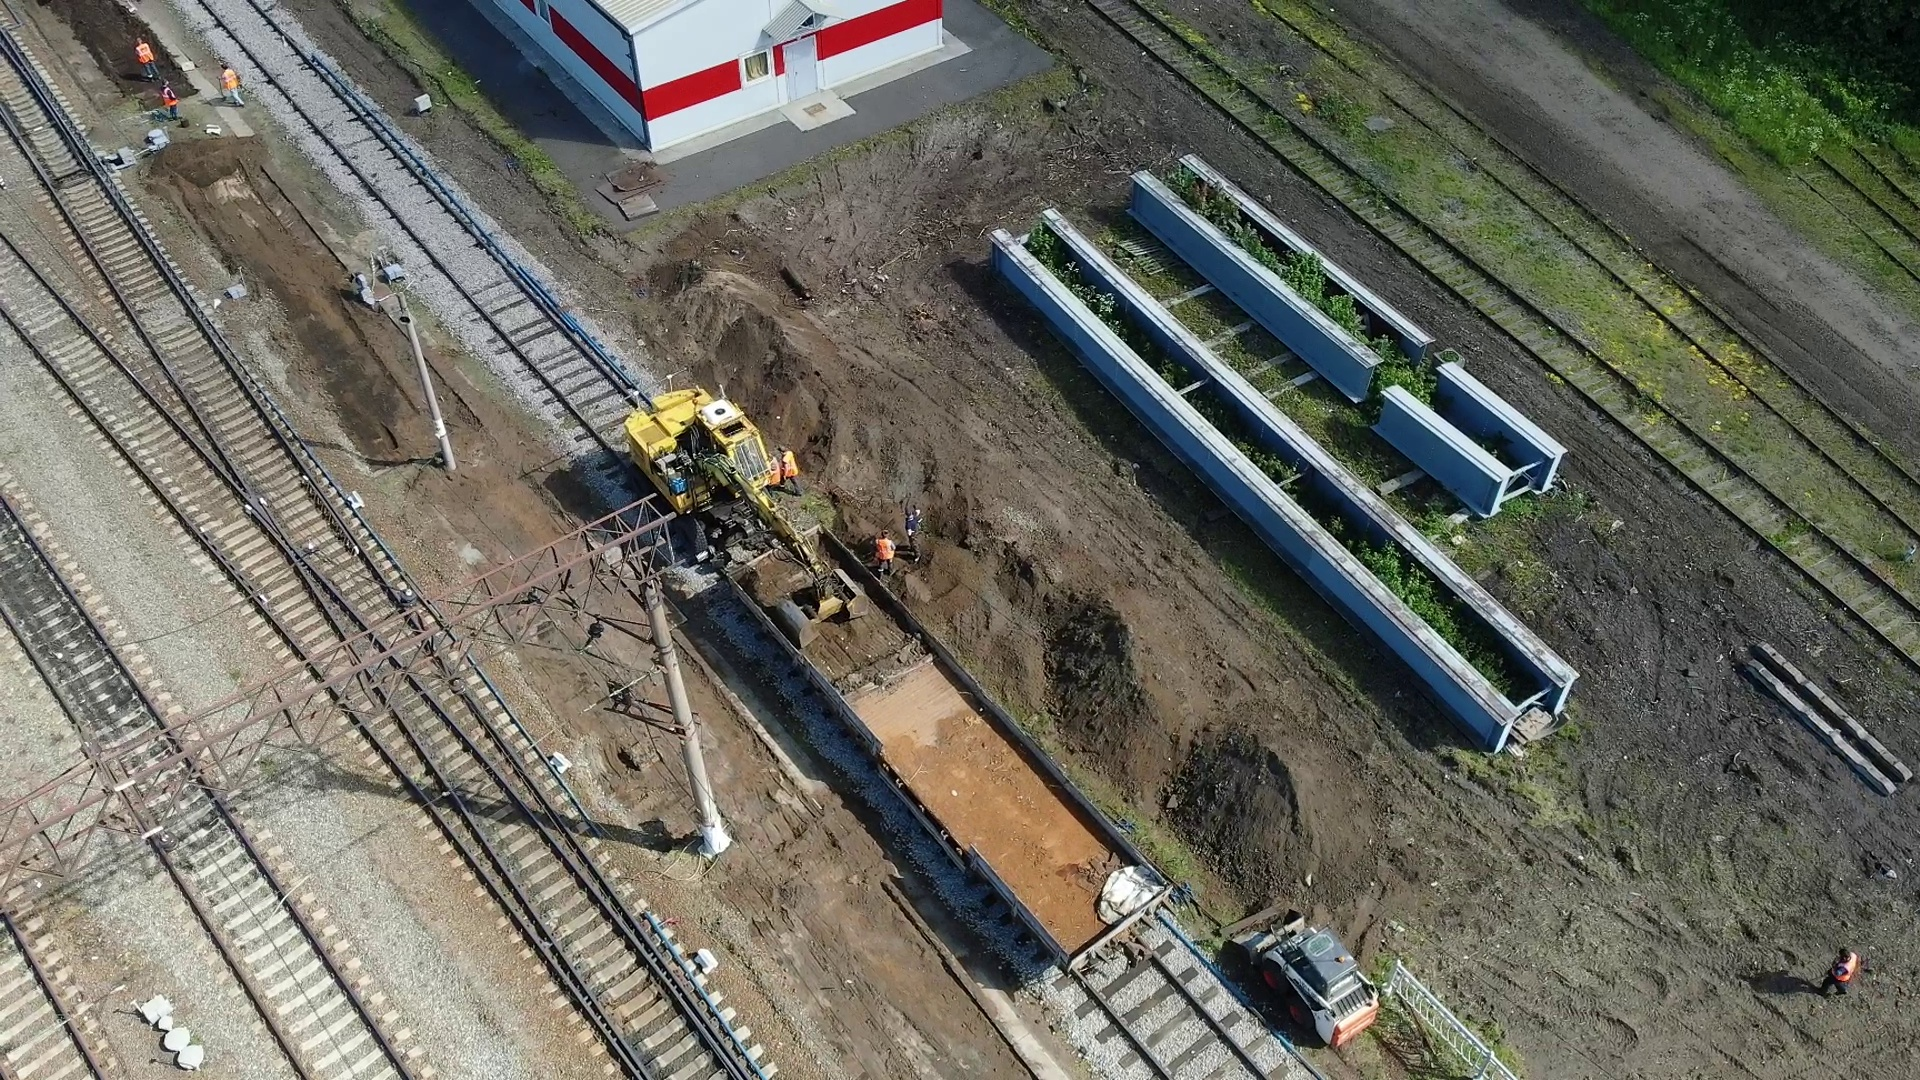kjtv: (630, 384, 777, 545)
